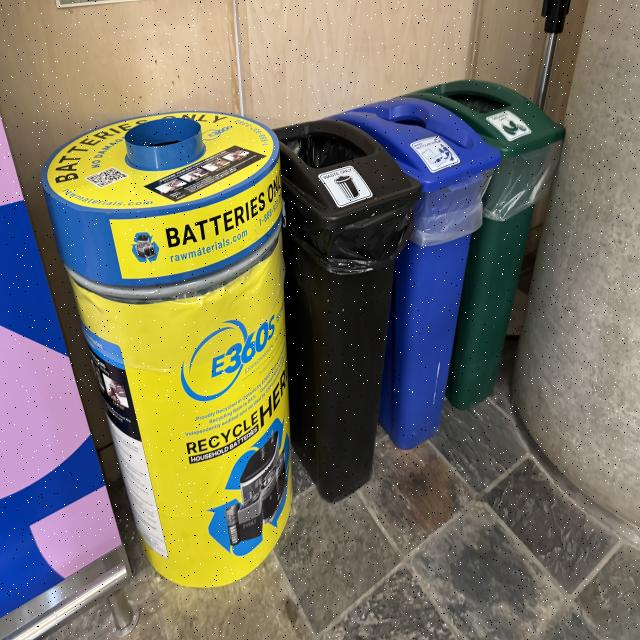Dustbin: (270, 79, 568, 504)
